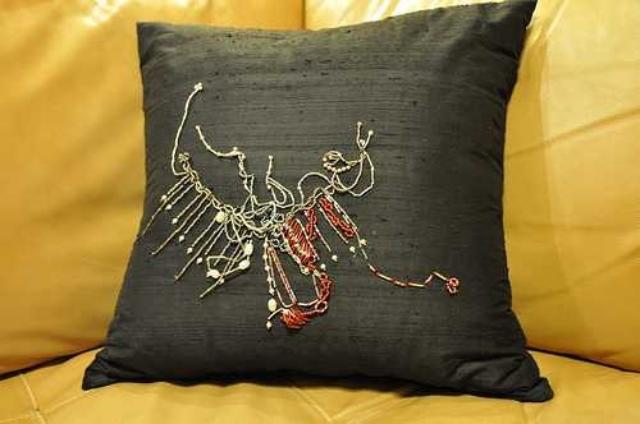pillow: (80, 1, 554, 404)
